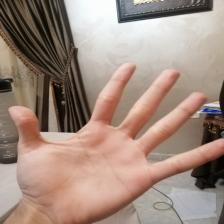five: (9, 63, 218, 206)
